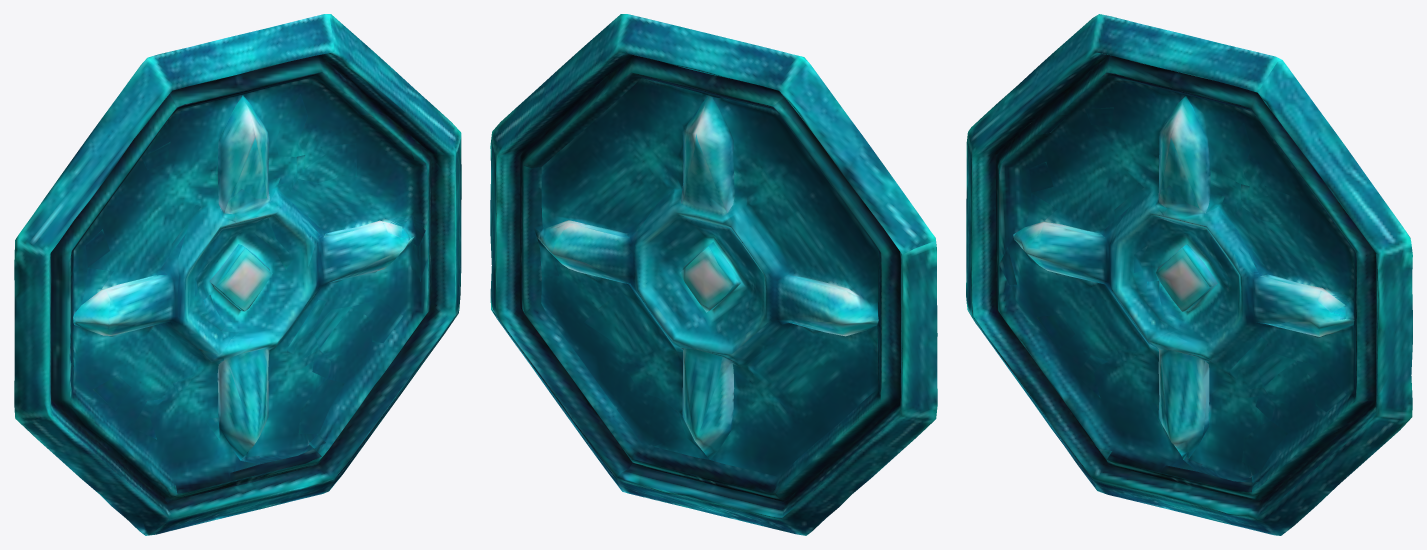
The model's file is fs_cryo_rune.glb.
The picture shows the model from 3 angles, left to right: view 1: azimuth 30°, elevation 25°; view 2: azimuth 150°, elevation 25°; view 3: azimuth 330°, elevation 25°; orthographic projection.
Parts seen in each view (by area): view 1: geometry_0; view 2: geometry_0; view 3: geometry_0.
Part boxes in pixels (left/top/right/bottom): geometry_0: left=14, top=14, right=461, bottom=535; geometry_0: left=490, top=14, right=937, bottom=535; geometry_0: left=966, top=14, right=1412, bottom=535.
Size of the model in its own units: 0.978 by 1 by 0.1366.
1 material, 1 textured.
